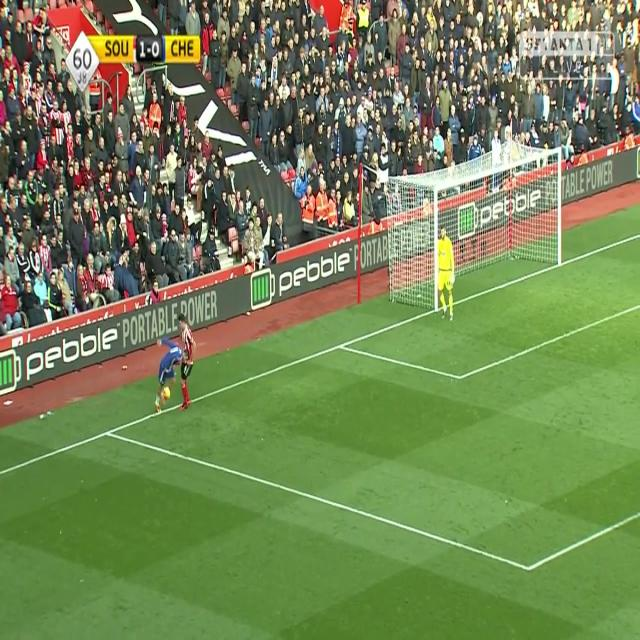Ball: (162, 384, 171, 402)
Goalkeeper: (437, 225, 458, 322)
Player: (153, 336, 182, 413), (174, 312, 195, 413)
